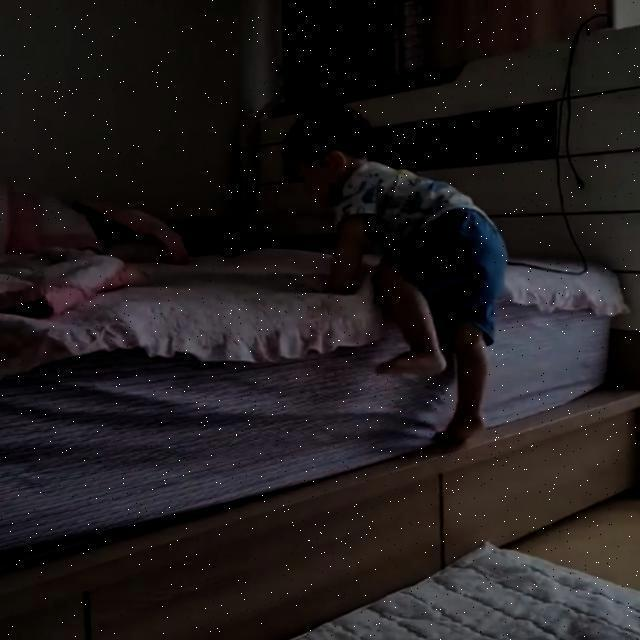child: (278, 97, 507, 454)
